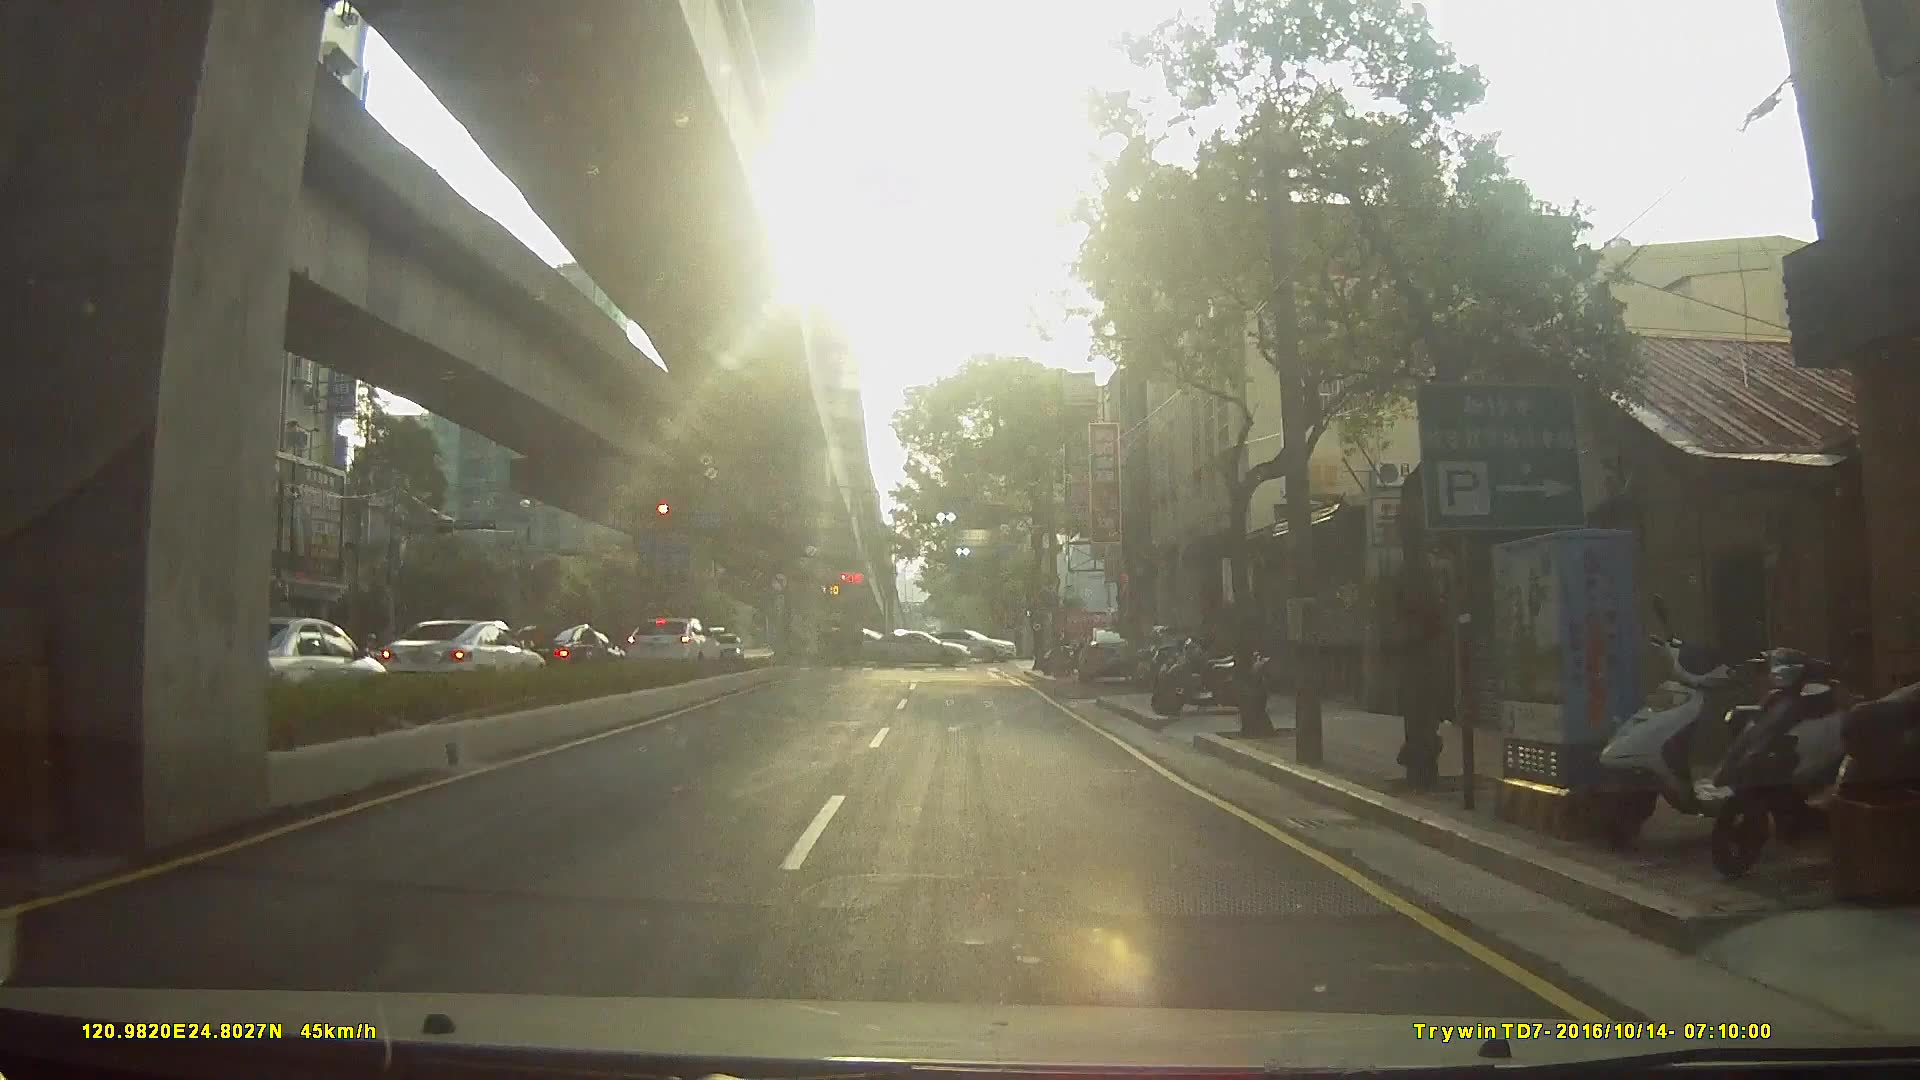vehicle: (179, 615, 393, 708), (373, 618, 559, 703), (497, 621, 624, 682), (618, 615, 725, 671), (868, 626, 980, 667), (1072, 622, 1146, 684), (819, 626, 902, 669), (934, 625, 1022, 662), (705, 632, 742, 665)
